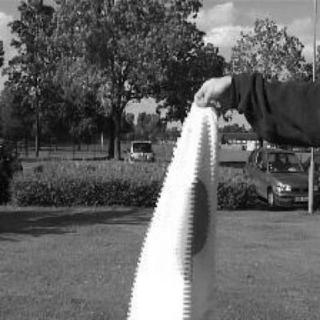other: (176, 172, 216, 278)
